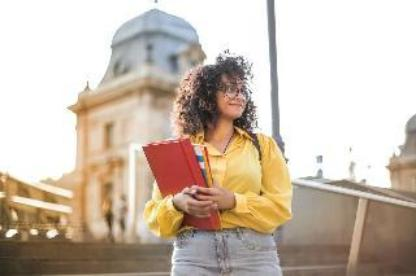person: (137, 46, 297, 276)
